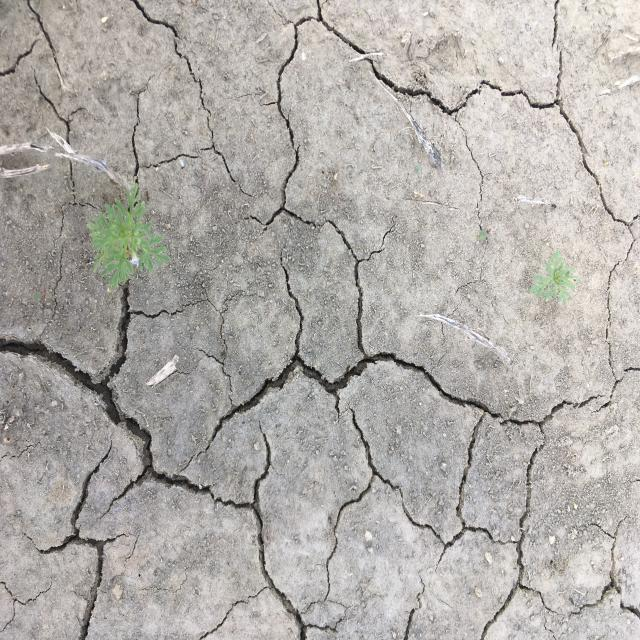Ragweed: (85, 182, 172, 292), (529, 250, 579, 306)
